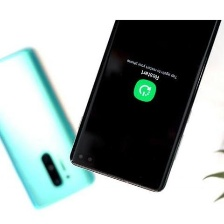phone: (66, 0, 224, 198), (0, 41, 101, 214)
